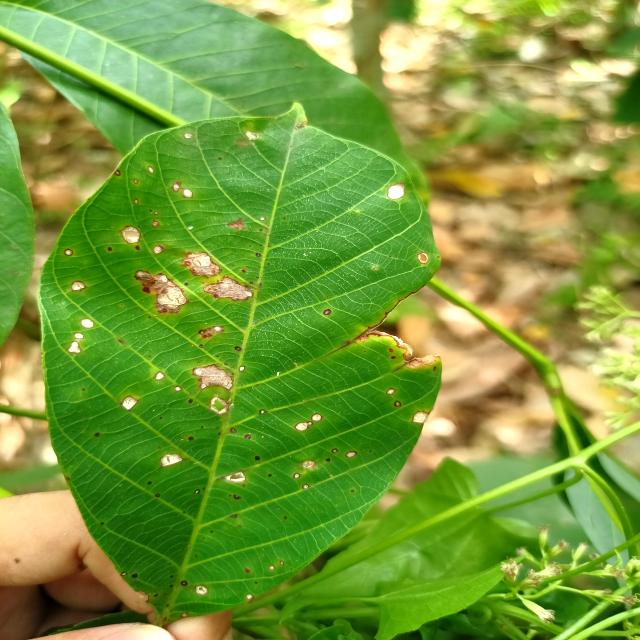Colletotrichum: (119, 225, 141, 244), (387, 183, 406, 200), (120, 395, 138, 411), (294, 421, 314, 431), (71, 280, 86, 292), (194, 584, 209, 595), (416, 252, 428, 264), (301, 459, 316, 468), (81, 318, 94, 328), (154, 371, 166, 380), (344, 451, 358, 458), (311, 413, 323, 421), (183, 189, 193, 198), (74, 332, 84, 340), (323, 308, 332, 316), (154, 246, 163, 254), (172, 183, 180, 192), (152, 220, 160, 228), (64, 249, 73, 256), (386, 388, 396, 394), (184, 133, 193, 139), (115, 170, 122, 177), (293, 472, 301, 478), (148, 166, 154, 174), (180, 580, 188, 586), (234, 494, 242, 500), (174, 386, 183, 391), (239, 365, 246, 371), (235, 346, 242, 352), (246, 594, 253, 600), (331, 448, 339, 453), (302, 484, 310, 489), (269, 564, 275, 570), (182, 612, 188, 618), (394, 401, 401, 406), (244, 434, 251, 439), (259, 409, 266, 414), (230, 428, 237, 433), (131, 573, 138, 578), (120, 572, 128, 576), (155, 493, 161, 498), (188, 436, 194, 441), (94, 432, 100, 437), (162, 308, 168, 313), (134, 198, 139, 204), (193, 490, 200, 494), (254, 456, 260, 460), (134, 178, 138, 184), (260, 217, 266, 221), (147, 481, 152, 485), (188, 399, 193, 403), (256, 253, 261, 257), (184, 282, 189, 286), (135, 246, 140, 250), (326, 458, 330, 462), (224, 362, 228, 366), (108, 247, 112, 251), (280, 561, 284, 565), (241, 270, 246, 273), (283, 516, 287, 519), (199, 345, 203, 348), (154, 212, 158, 215), (170, 584, 173, 588), (170, 574, 173, 578), (350, 490, 354, 492), (268, 474, 272, 476), (152, 282, 156, 284), (325, 296, 328, 298), (250, 282, 253, 284), (268, 245, 271, 247), (268, 263, 270, 265), (260, 244, 262, 246)
Leaf-Blight: (137, 272, 187, 312), (204, 276, 252, 300), (195, 365, 233, 389), (184, 252, 220, 277)
